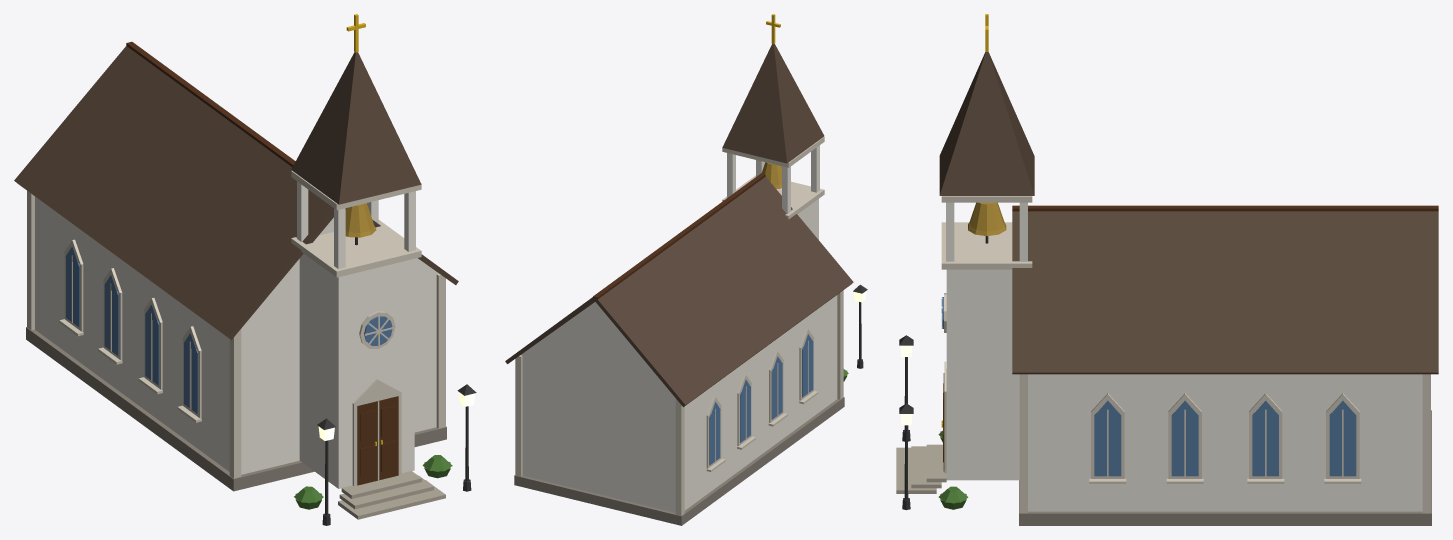
File: Building_Church.fbx
3 renders of one model, left to right at view 1: azimuth 30°, elevation 25°; view 2: azimuth 150°, elevation 25°; view 3: azimuth 270°, elevation 25°, orthographic. The views are drawn at different scales.
Visible parts, largest first — view 1: Building_Church; view 2: Building_Church; view 3: Building_Church.
Part boxes in pixels (x1,y1,x2,y2): Building_Church: (14,14,476,525); Building_Church: (505,14,867,525); Building_Church: (896,14,1438,525).
Size of the model in its own units: 7.88 by 15.1 by 16.15.
